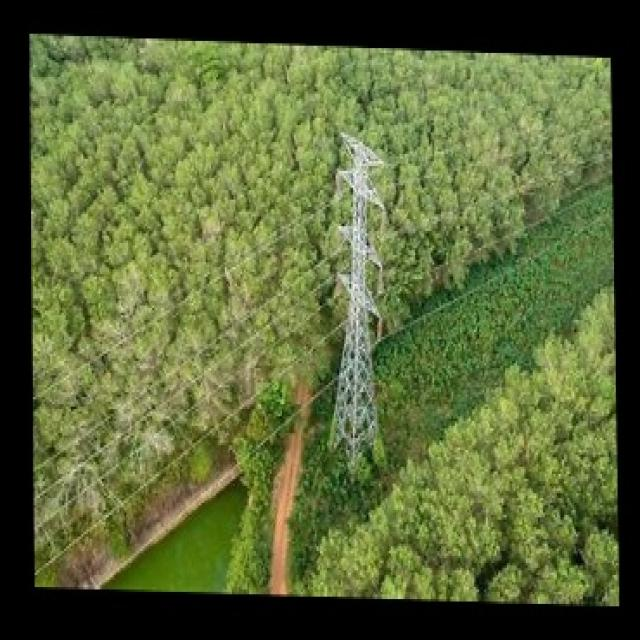utility poles: (316, 114, 409, 482)
